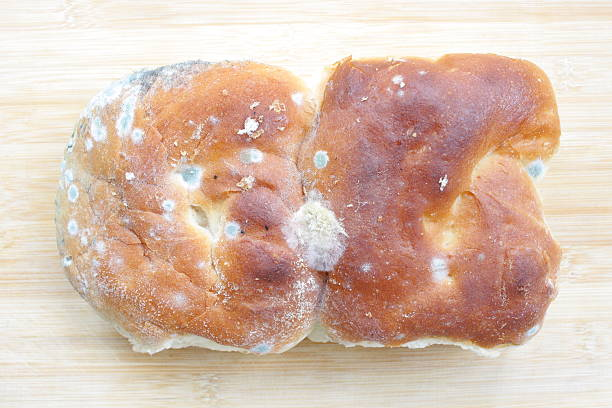mold_bread: (278, 195, 349, 273), (122, 55, 222, 96), (54, 157, 84, 202), (117, 105, 146, 144), (81, 105, 109, 145), (522, 153, 549, 186), (176, 162, 202, 191), (431, 253, 453, 283), (388, 72, 410, 100), (239, 146, 266, 168), (249, 338, 274, 357), (523, 317, 543, 340), (223, 218, 242, 239), (160, 195, 175, 220), (313, 149, 330, 169), (64, 217, 78, 238), (360, 259, 375, 276), (62, 252, 72, 267)
